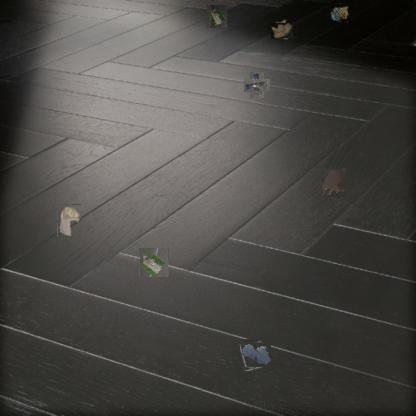dirty: (140, 248, 168, 277), (57, 204, 81, 236), (206, 5, 228, 27), (330, 2, 350, 22), (272, 20, 292, 40), (247, 75, 267, 95)
liquid: (241, 341, 269, 369), (320, 170, 346, 197)
